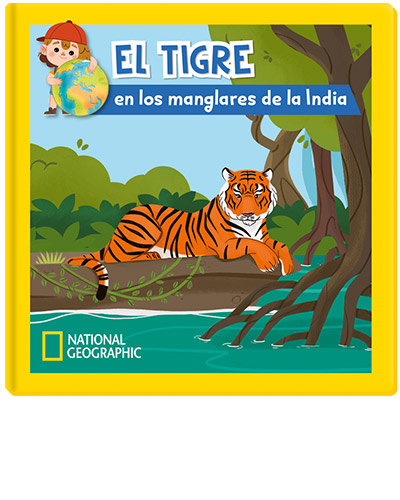Tigrew: (77, 154, 301, 291)
